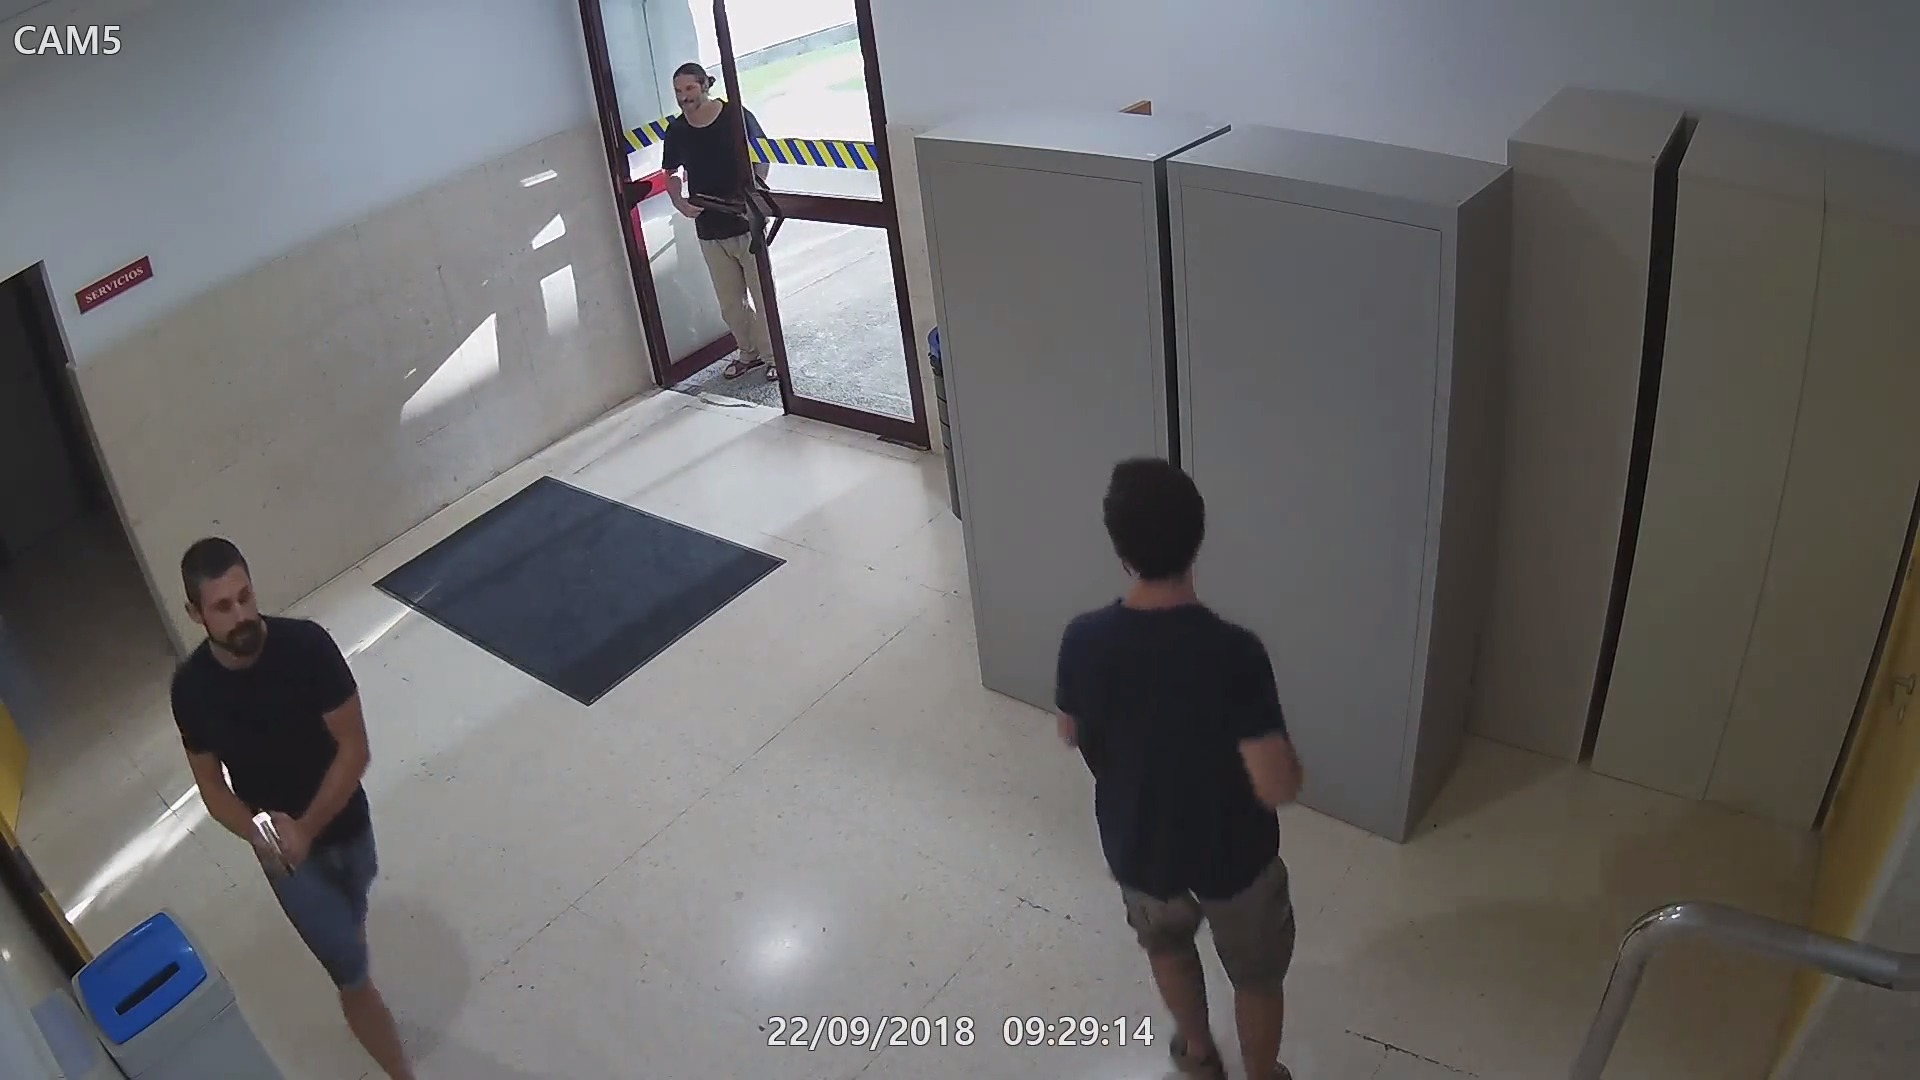Handgun: (237, 798, 301, 895)
Short_rifle: (678, 187, 777, 232)
